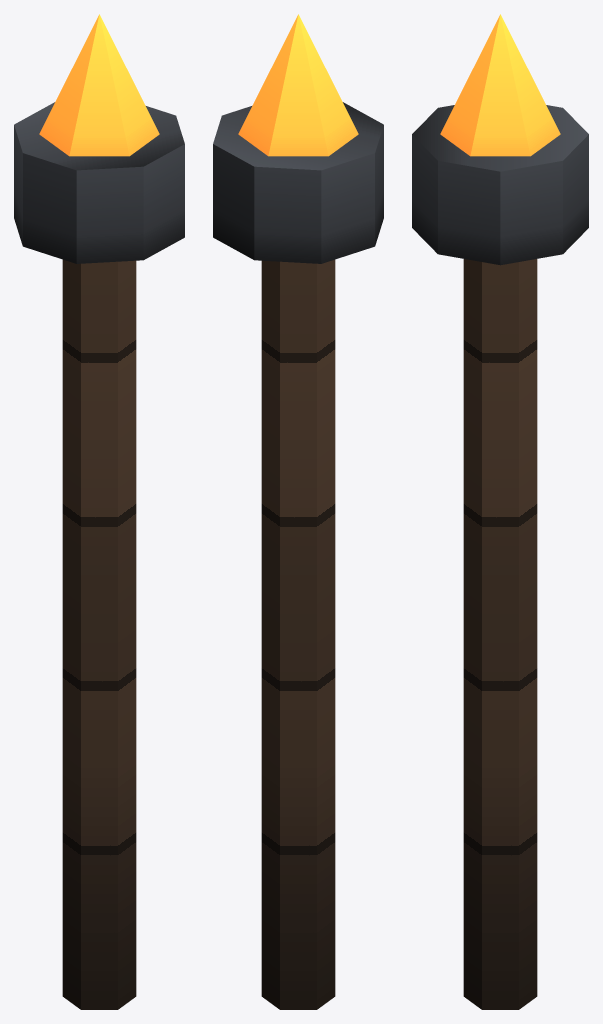
The model's file is torch.glb.
The picture shows the model from 3 angles, left to right: view 1: azimuth 30°, elevation 25°; view 2: azimuth 150°, elevation 25°; view 3: azimuth 270°, elevation 25°; orthographic projection.
Visible parts, largest first — view 1: torch; view 2: torch; view 3: torch.
Part boxes in pixels (x1,y1,x2,y2): torch: (14,14,184,1009); torch: (213,14,383,1009); torch: (412,14,588,1009).
Bounding box in the file's own units: 0.24 × 1.47 × 0.24.
1 material, 1 textured.
